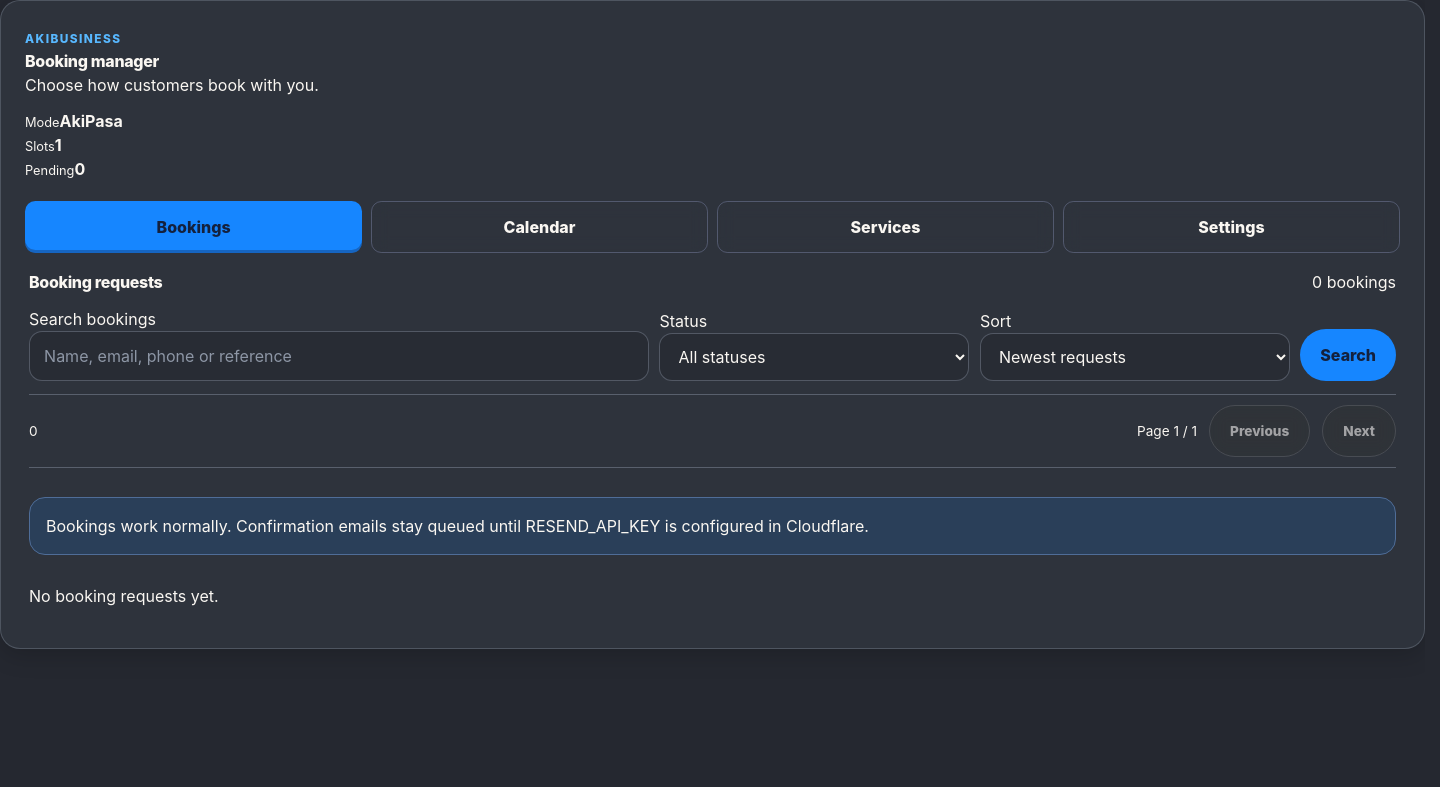
it: AkiBusiness advanced booking manager › uses the shared SVG icon system for template selectors
Click the button "Services" at (886, 227), box [717,201,1054,253]
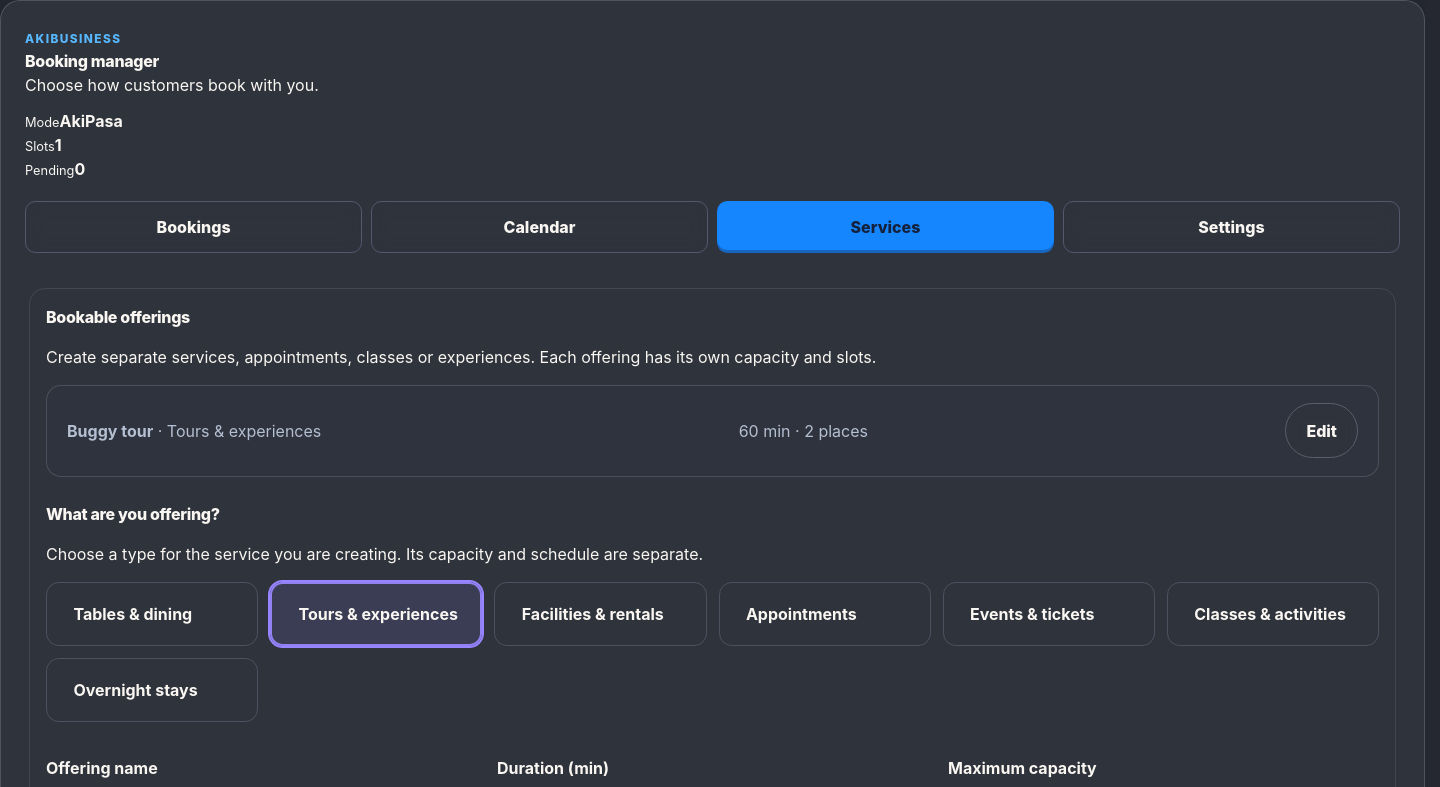
Expected: the button "Events & tickets" is shown, [943,582,1155,646]
